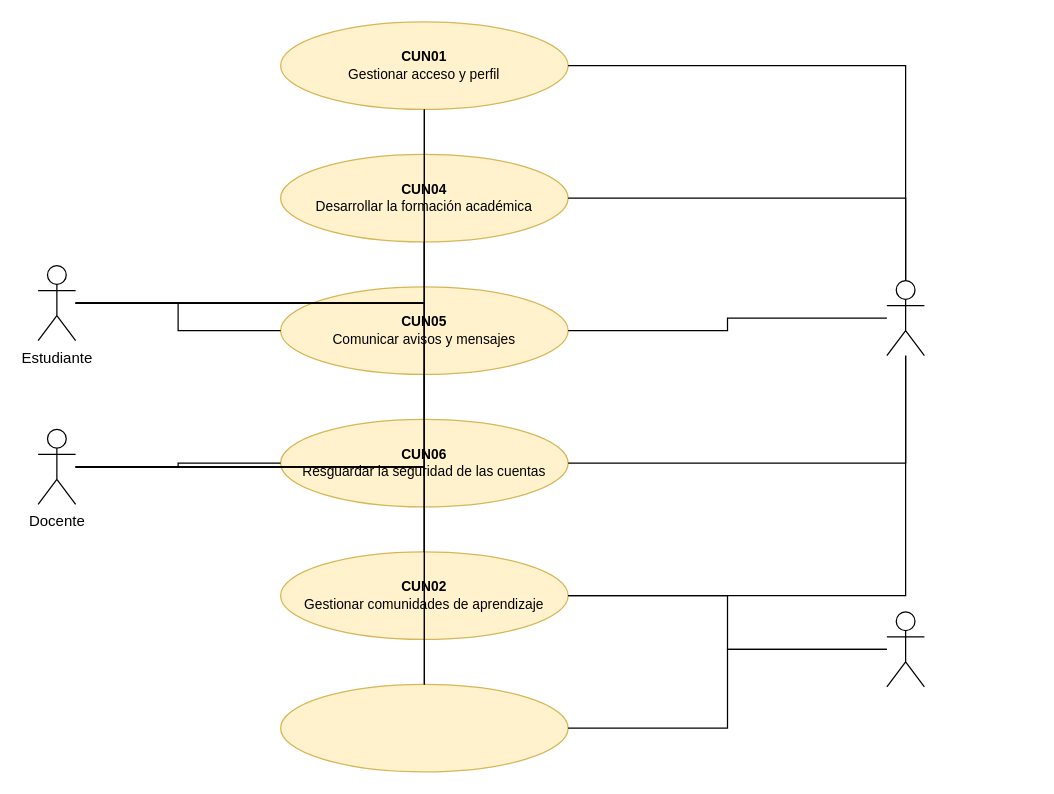
Some shapes in this 1054 by 794 pixel diagram are drawn without their labels. The shapes that lost their labels are listed below. From the top down, each one's box as (x1, y1, x2, y2) in pixels, then its label:
(886, 279, 924, 356): Administrador PerúEduca (trabajador)
(886, 611, 924, 687): Moderador de comunidad (trabajador)
(279, 683, 568, 772): CUN03 Compartir contenido e interactuar
